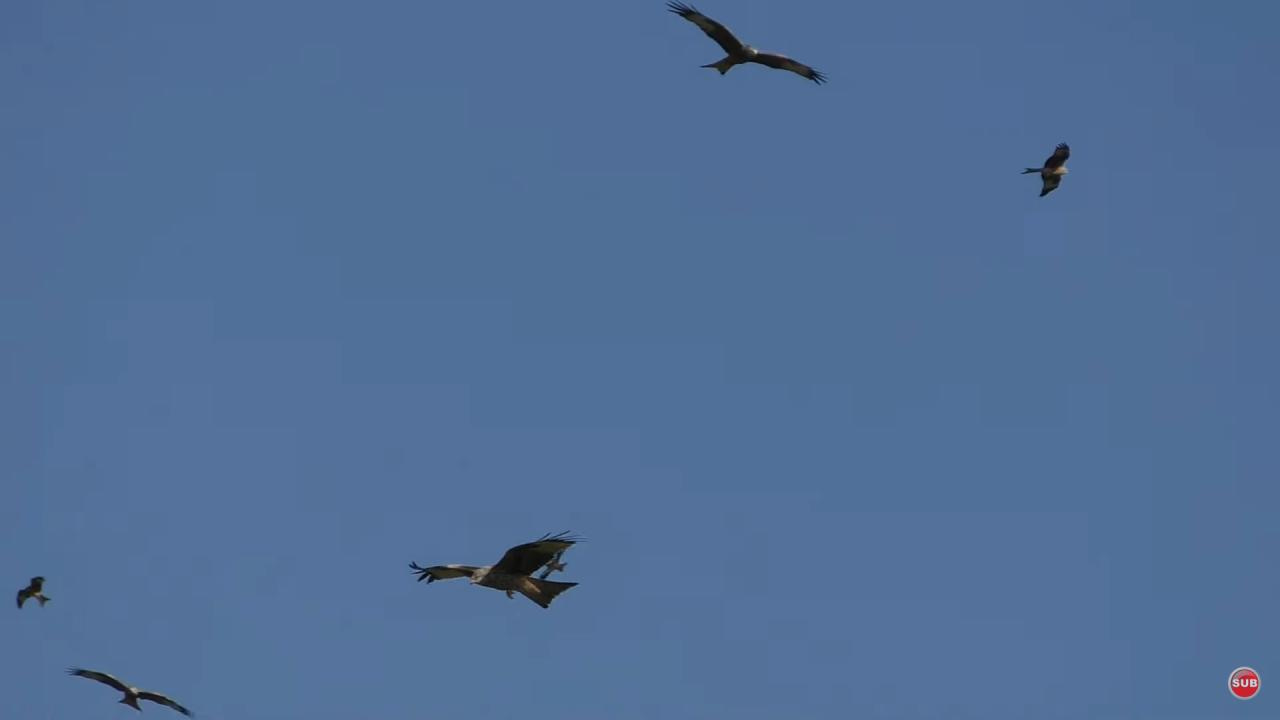Bird: (399, 520, 599, 625), (655, 2, 838, 93), (58, 656, 209, 720), (1011, 133, 1091, 209), (10, 572, 58, 616)
